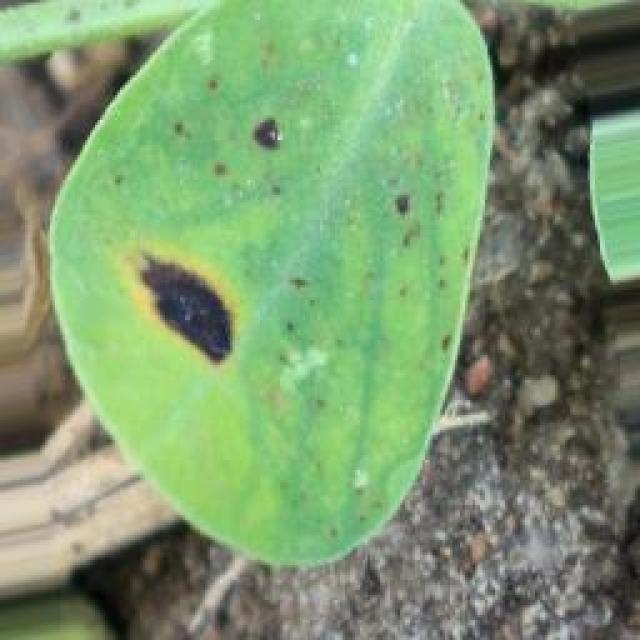Yellowish: (131, 37, 301, 208), (350, 146, 493, 348), (115, 226, 267, 398)
